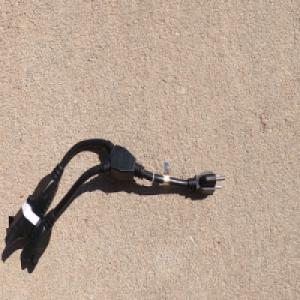Wire: (4, 137, 226, 269)
